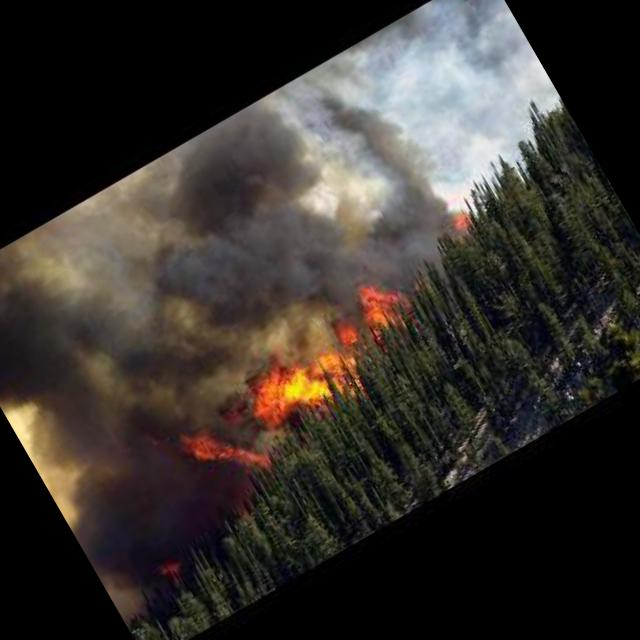fire: (146, 250, 456, 498), (431, 199, 486, 255)
smoke: (0, 38, 548, 625)
